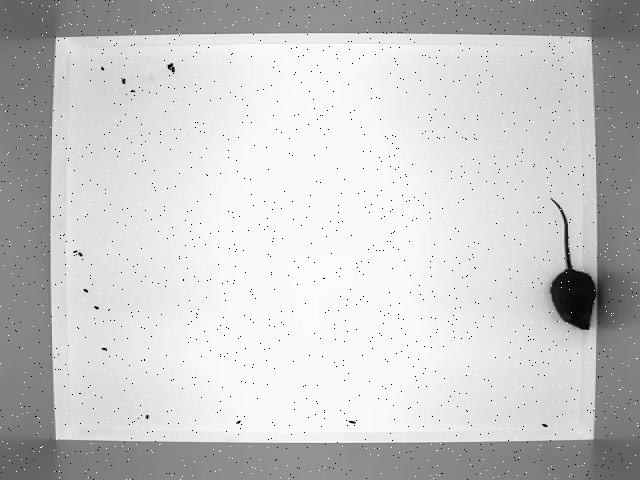Tikus: (548, 197, 596, 331)
